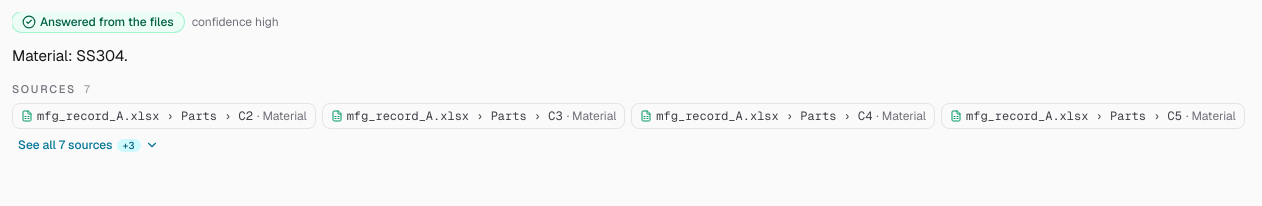
AnswerCard › shows a few sources and a See all button for the rest
Expected: the number of buttons "mfg_record_A.xlsx › Parts › C2 · Material" is 4, [12, 103, 316, 129]; [322, 103, 625, 129]; [631, 103, 935, 129]; [941, 103, 1245, 129]
Click the button "See all 7 sources +3" at (88, 145), box [12, 135, 164, 155]
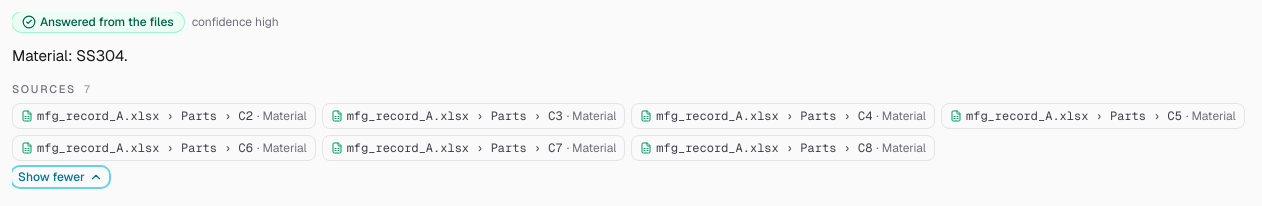
Now the number of buttons "mfg_record_A.xlsx › Parts › C2 · Material" is 7
Click the button "Show fewer" at (60, 177), box [12, 167, 109, 187]
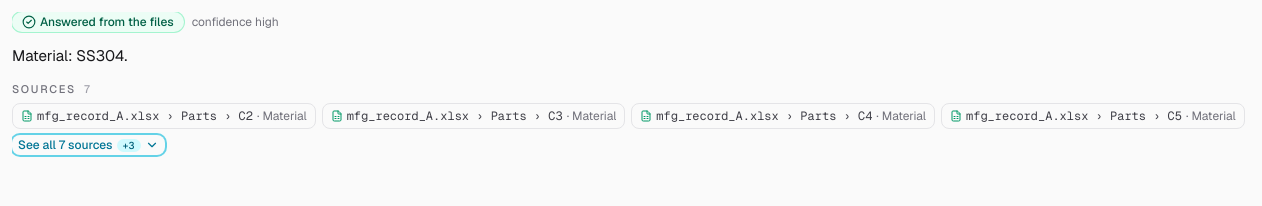
Now the button "See all 7 sources +3" is shown, box [12, 135, 164, 155]
